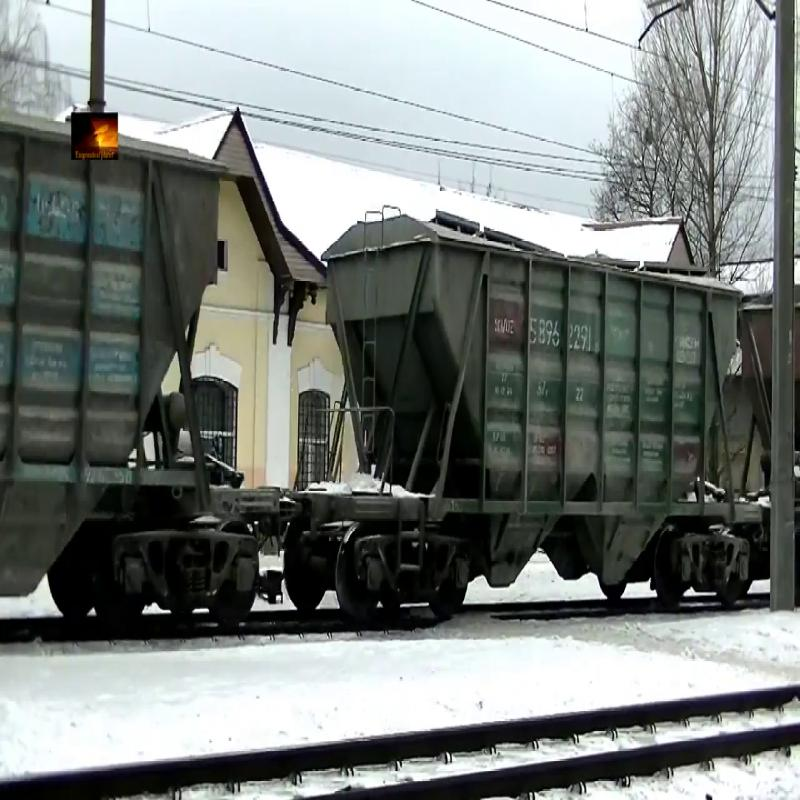train: (319, 212, 744, 608), (1, 120, 249, 615)
